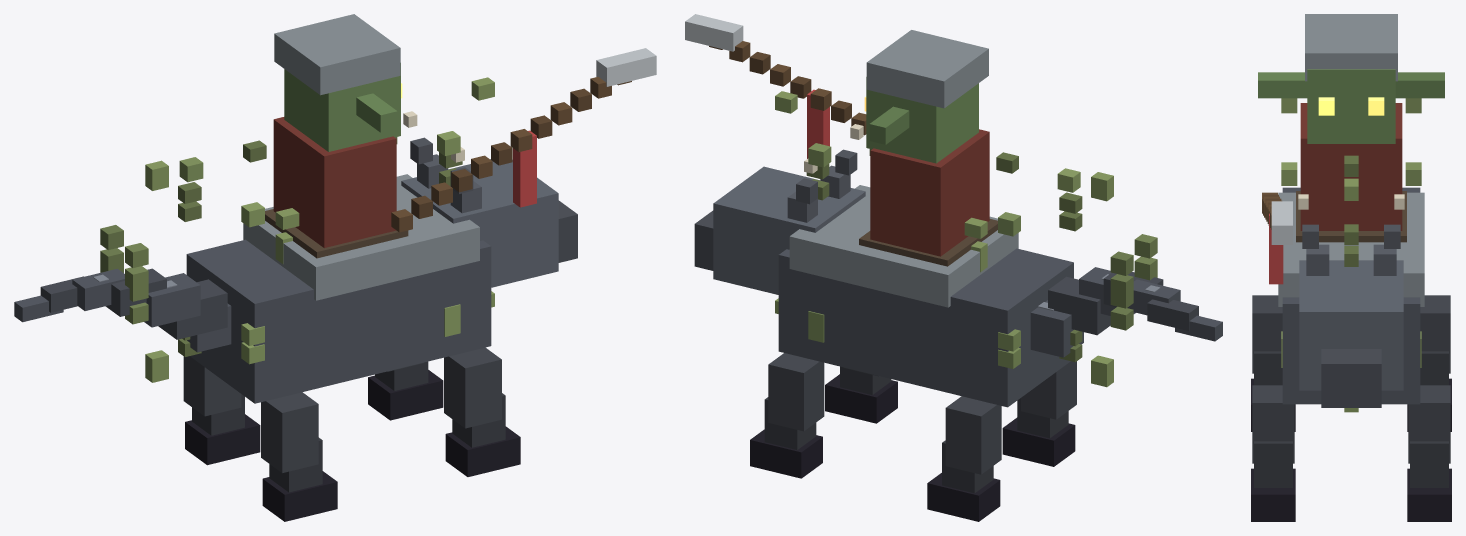
File: goblin-wolf-rider.glb
The picture shows the model from 3 angles, left to right: view 1: azimuth 30°, elevation 25°; view 2: azimuth 150°, elevation 25°; view 3: azimuth 270°, elevation 25°; orthographic projection. The views are drawn at different scales.
Visible parts, largest first — view 1: WolfBody, WolfLegs, Torso, Armor, WolfTail, WolfHead, Helmet, Scales, Head, Lance, Trim, WolfEars (+5 smaller); view 2: WolfBody, WolfLegs, Torso, Armor, WolfHead, WolfTail, Helmet, Scales, Head, Trim, Lance, WolfEars (+5 smaller); view 3: WolfLegs, WolfHead, Torso, Head, Helmet, WolfBody, Armor, WolfSnout, Ears, WolfEars, Scales, Trim (+5 smaller).
Boxes of the visible parts, left/top/right/bottom form: WolfBody: left=186, top=239, right=491, bottom=403; WolfLegs: left=183, top=347, right=520, bottom=521; Torso: left=273, top=117, right=396, bottom=247; Armor: left=243, top=174, right=479, bottom=300; WolfTail: left=14, top=268, right=231, bottom=352; WolfHead: left=401, top=159, right=558, bottom=287; Helmet: left=274, top=14, right=400, bottom=95; Scales: left=100, top=131, right=460, bottom=364; Head: left=284, top=63, right=400, bottom=151; Lance: left=391, top=77, right=631, bottom=232; Trim: left=145, top=77, right=494, bottom=382; WolfEars: left=403, top=111, right=481, bottom=213; WolfBody: left=778, top=248, right=1073, bottom=407; WolfLegs: left=750, top=353, right=1076, bottom=521; Torso: left=870, top=129, right=989, bottom=256; Armor: left=789, top=185, right=1018, bottom=307; WolfHead: left=713, top=166, right=865, bottom=294; WolfTail: left=1030, top=267, right=1222, bottom=357; Helmet: left=866, top=30, right=988, bottom=108; Scales: left=808, top=143, right=1157, bottom=368; Head: left=866, top=77, right=978, bottom=163; Trim: left=775, top=91, right=1113, bottom=387; Lance: left=709, top=41, right=866, bottom=135; WolfEars: left=787, top=124, right=863, bottom=222; WolfLegs: left=1251, top=295, right=1451, bottom=521; WolfHead: left=1299, top=260, right=1403, bottom=390; Torso: left=1300, top=103, right=1402, bottom=230; Head: left=1307, top=69, right=1395, bottom=143; Helmet: left=1305, top=14, right=1397, bottom=81; WolfBody: left=1282, top=187, right=1420, bottom=404; Armor: left=1278, top=192, right=1424, bottom=306; WolfSnout: left=1321, top=349, right=1381, bottom=407; Ears: left=1258, top=72, right=1444, bottom=98; WolfEars: left=1298, top=194, right=1404, bottom=275; Scales: left=1281, top=98, right=1421, bottom=367; Trim: left=1344, top=155, right=1358, bottom=412.
Size of the model in its own units: 7.73 by 5.26 by 2.26.
